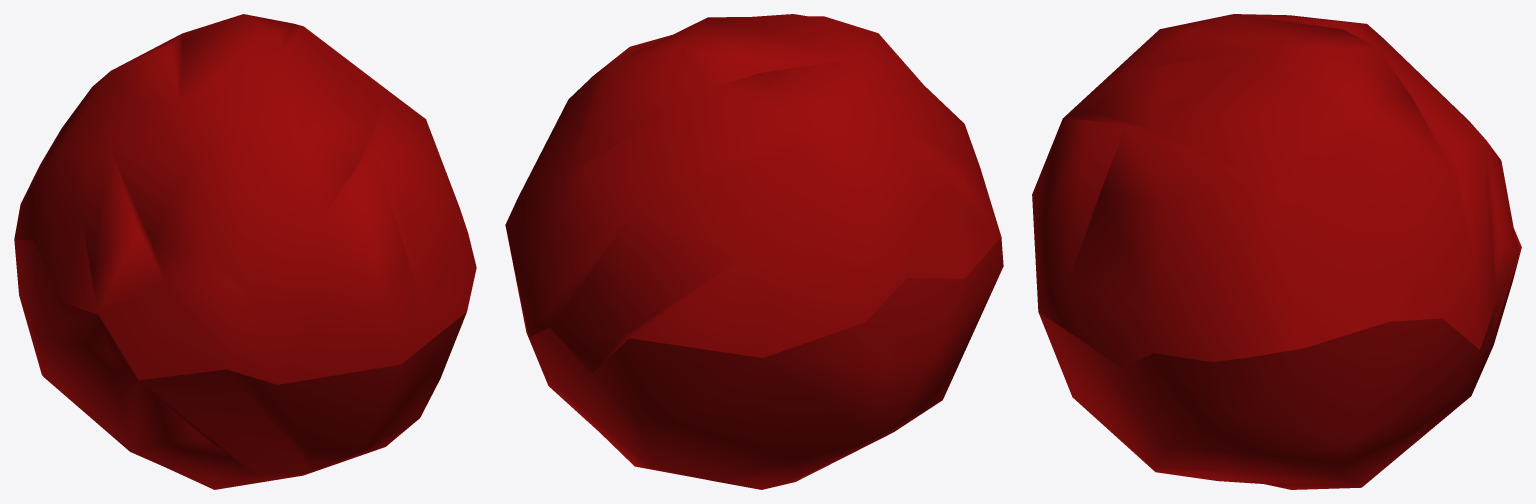
3 views of the same model, side by side, from view 1: azimuth 30°, elevation 25°; view 2: azimuth 150°, elevation 25°; view 3: azimuth 270°, elevation 25° (orthographic). The views are drawn at different scales.
Parts seen in each view (by area): view 1: low; view 2: low; view 3: low.
Part boxes in pixels (x1=…): low: x1=14, y1=14, x2=476, y2=489; low: x1=505, y1=14, x2=1003, y2=489; low: x1=1032, y1=14, x2=1521, y2=489.
Bounding box in the file's own units: 0.5458 × 0.5492 × 0.5523.
